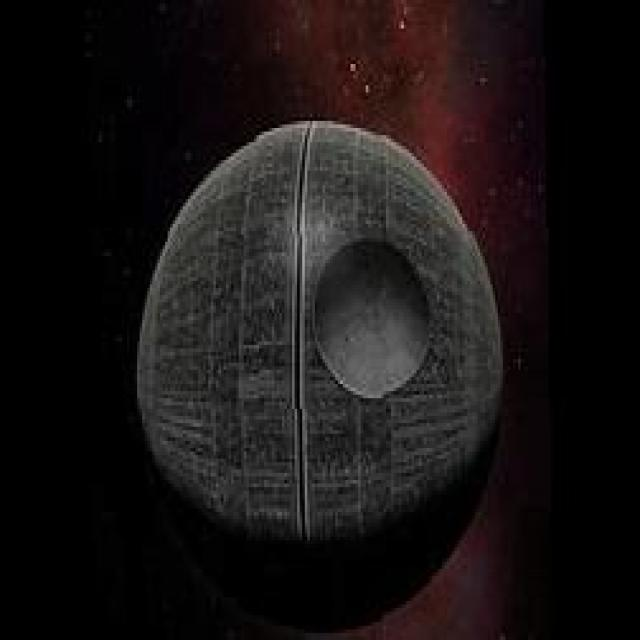Death Star: (129, 110, 508, 555)
